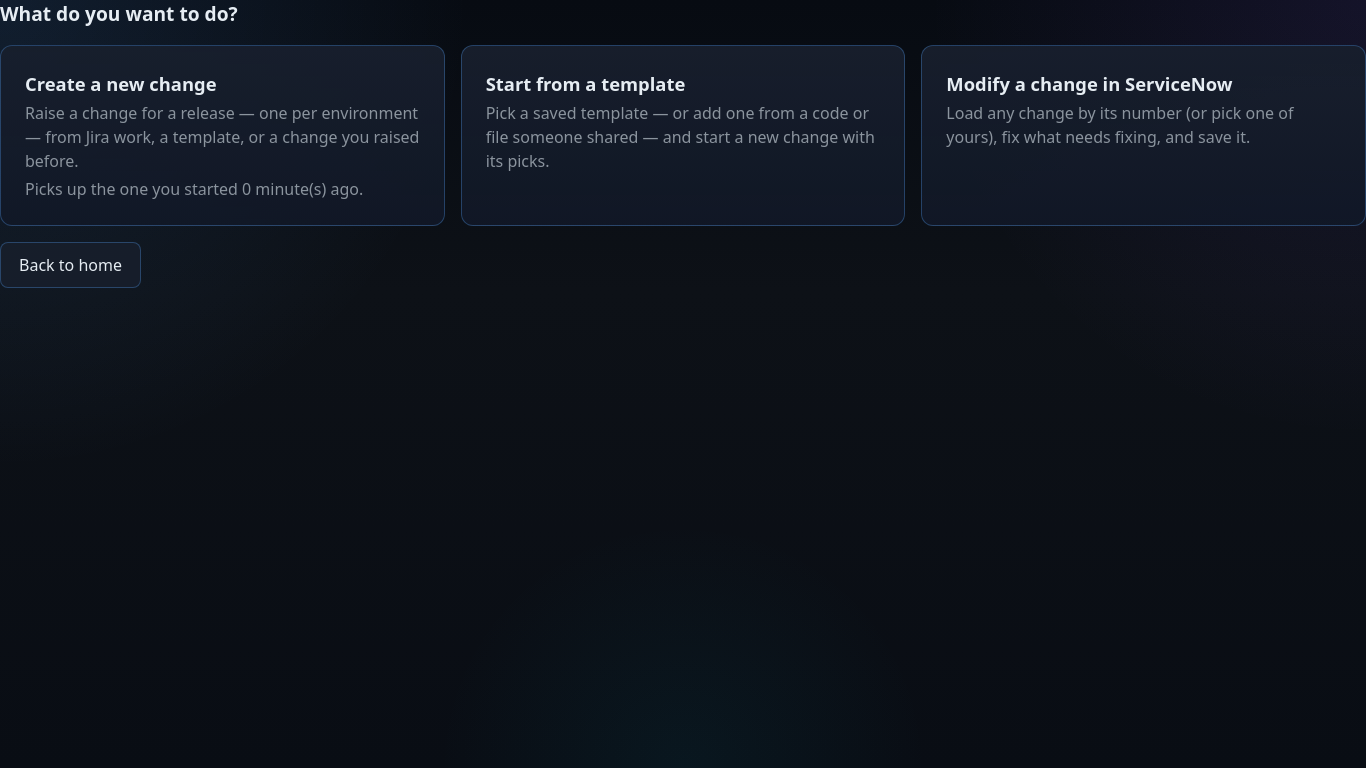
Test: ChangeWizard — new change › creates the changes, their tasks and the evidence zip from its own step, after AI Assist
Click the button "Create a new change" at (222, 136), box [0, 45, 445, 226]
(page scrolled)
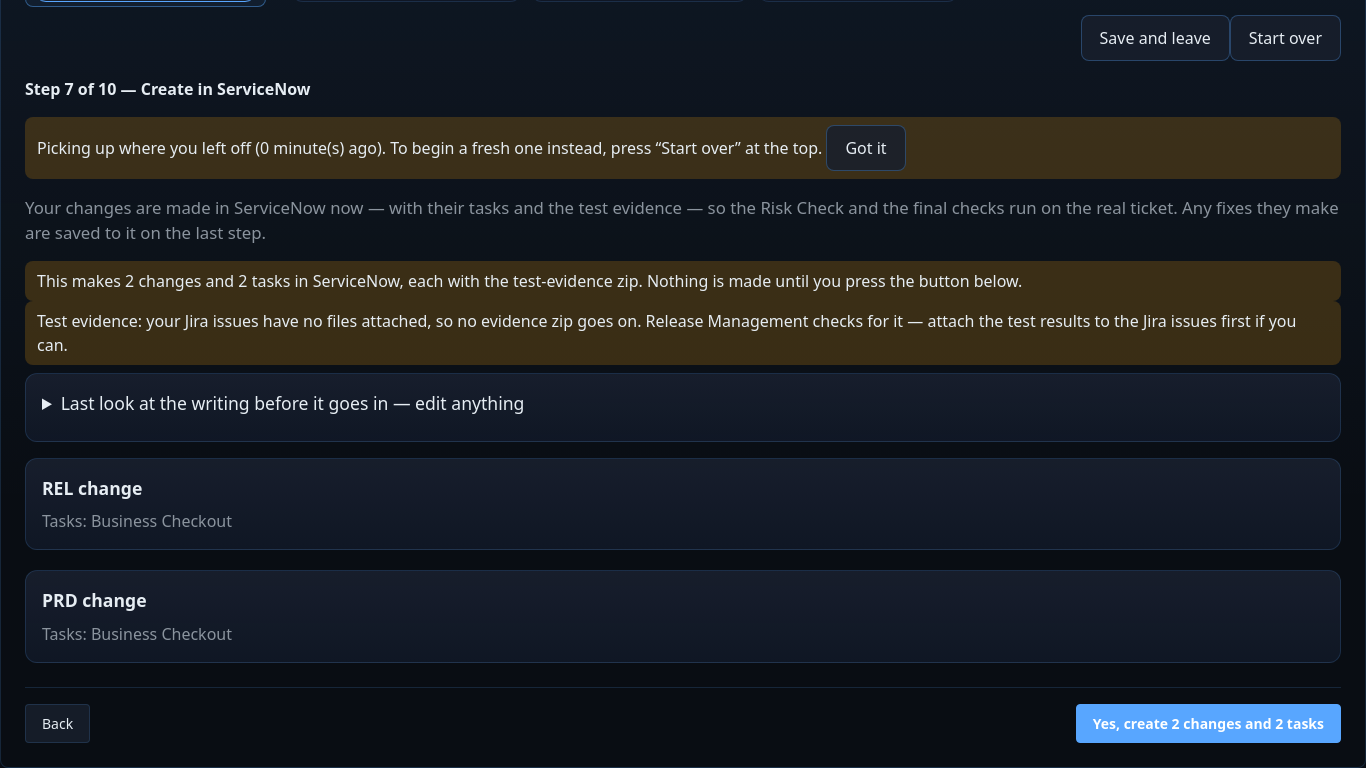
Now the heading "Step 7 of 10 — Create in ServiceNow" is shown, box [25, 78, 311, 100]
Now the heading "REL change" is shown, box [42, 476, 142, 500]
Now the text "This makes 2 changes and 2 tasks in ServiceNow, each with the test-evidence zip" is shown, box [37, 270, 1022, 292]
